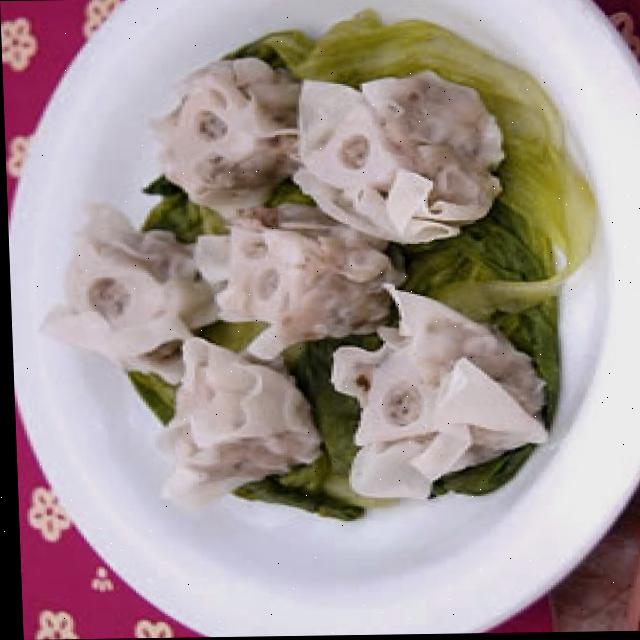带馅早点: (119, 0, 640, 449)
